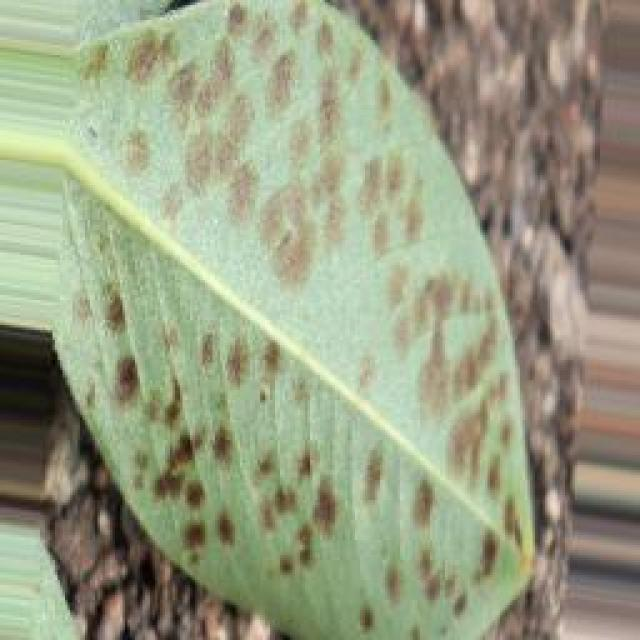Whitefly: (56, 5, 536, 631)
